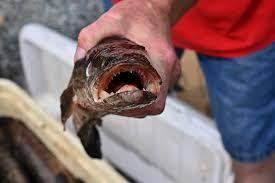Snakehead: (52, 31, 163, 169)
